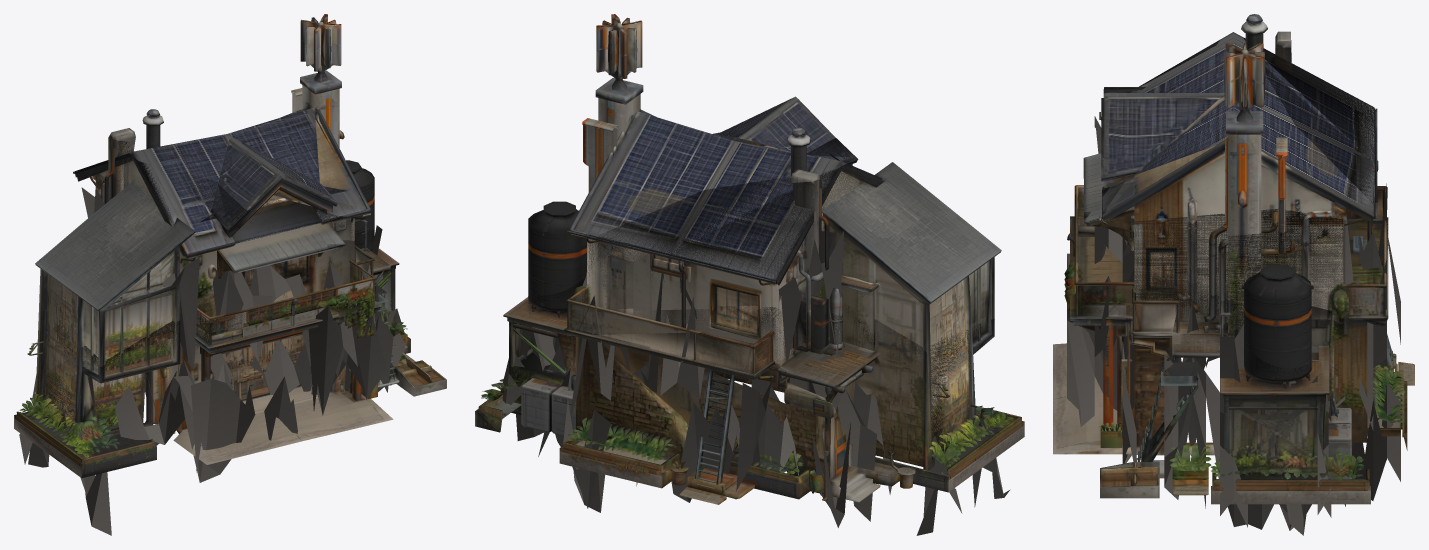
Rendered from nha_hien_dai.glb.
The picture shows the model from 3 angles, left to right: view 1: azimuth 30°, elevation 25°; view 2: azimuth 150°, elevation 25°; view 3: azimuth 270°, elevation 25°; orthographic projection. The views are drawn at different scales.
Visible parts, largest first — view 1: do_1, do_2, nguyen; view 2: do_1, do_2, nguyen; view 3: do_1, nguyen, do_2.
Boxes of the visible parts, x1,y1,x2,y2 form: do_1: (14, 230, 446, 535); do_2: (35, 135, 382, 424); nguyen: (76, 14, 370, 255); do_1: (475, 277, 1024, 535); do_2: (521, 138, 1001, 469); nguyen: (567, 14, 879, 308); do_1: (1053, 186, 1414, 535); nguyen: (1099, 14, 1377, 337); do_2: (1074, 37, 1388, 447).
Size of the model in its own units: 14.14 by 14.25 by 9.62.
Materials: 2 (1 with a texture image).
